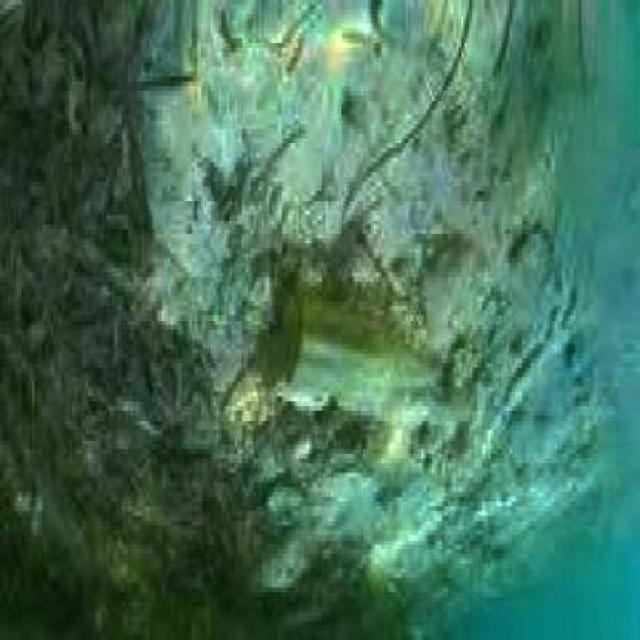gbottle: (274, 290, 486, 452)
